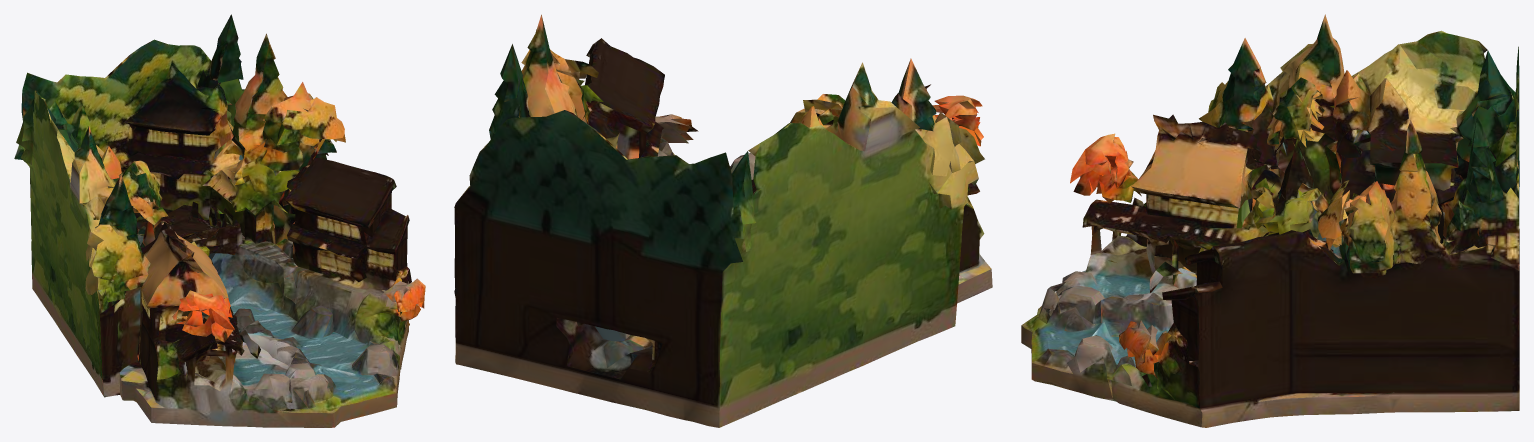
File: kurokawa-onsen.glb
3 renders of one model, left to right at view 1: azimuth 30°, elevation 25°; view 2: azimuth 150°, elevation 25°; view 3: azimuth 270°, elevation 25°, orthographic. The views are drawn at different scales.
Parts seen in each view (by area): view 1: logan-textured.obj; view 2: logan-textured.obj; view 3: logan-textured.obj.
Boxes of the visible parts, x1,y1,x2,y2 form: logan-textured.obj: (14,14,425,427); logan-textured.obj: (454,14,992,427); logan-textured.obj: (1021,14,1519,427).
Size of the model in its own units: 0.8267 by 0.6219 by 1.
Materials: 1 (1 with a texture image).
